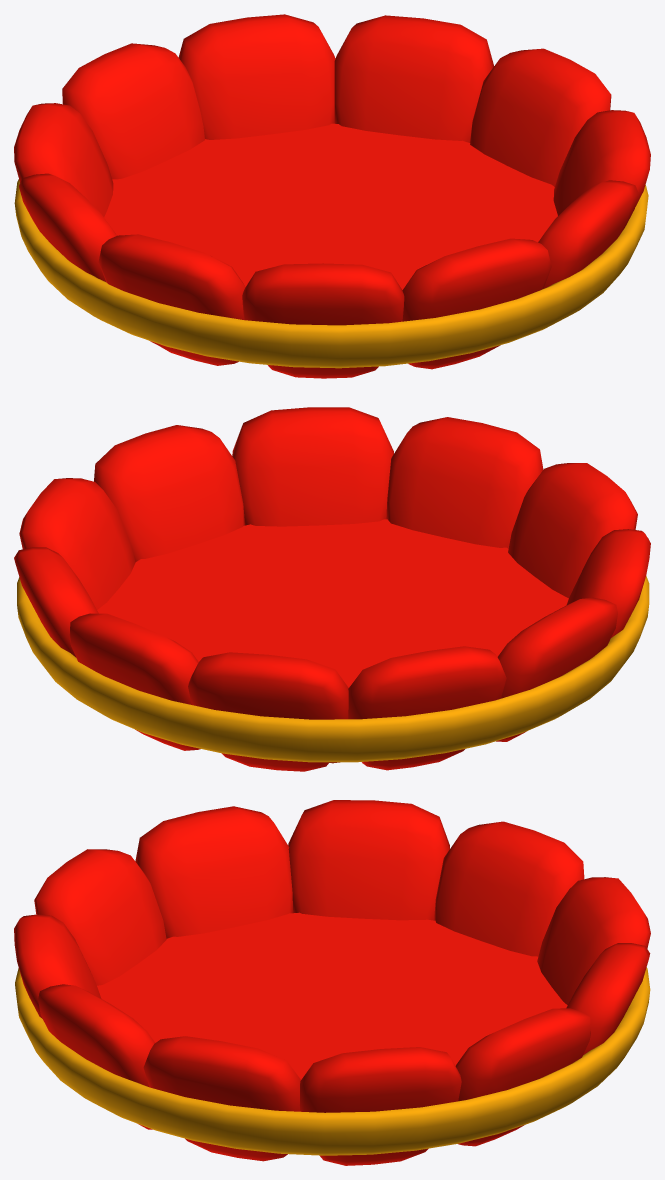
The model's file is collection_douche.fbx.
The picture shows the model from 3 angles, top to bottom: view 1: azimuth 30°, elevation 25°; view 2: azimuth 150°, elevation 25°; view 3: azimuth 270°, elevation 25°; orthographic projection.
Parts seen in each view (by area): view 1: bassine; view 2: bassine; view 3: bassine.
Boxes of the visible parts, x1,y1,x2,y2 form: bassine: [14, 14, 650, 378]; bassine: [14, 407, 650, 771]; bassine: [14, 800, 650, 1165].
Bounding box in the file's own units: 104 × 30.17 × 104.
